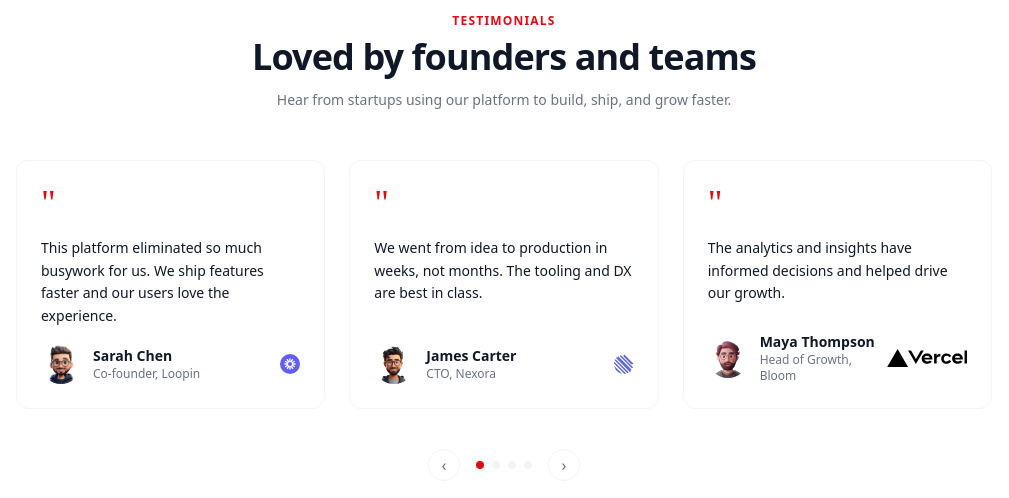
Test: Carousel › previous button changes visible testimonial
Click the button "‹".
click(444, 465)  # box [428,449,460,481]
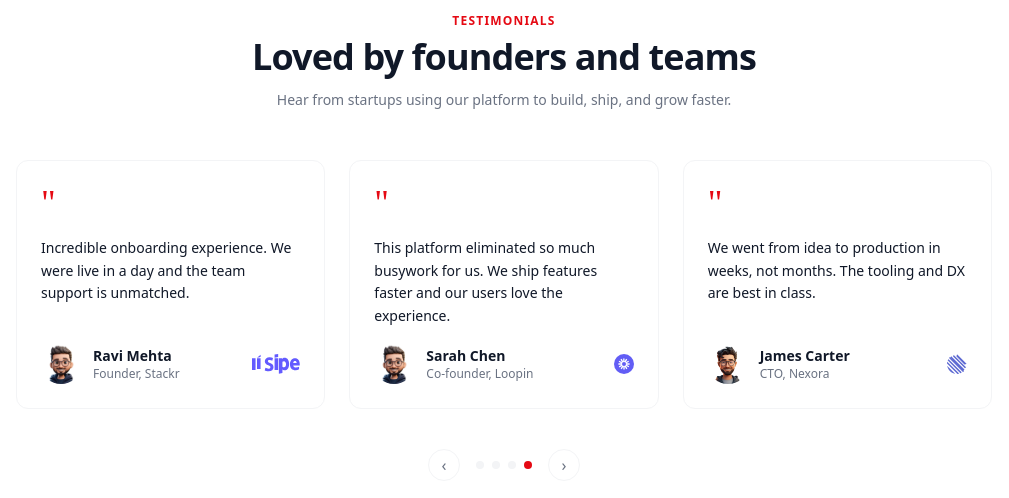
Result: the text "Incredible onboarding experience. We were live in a day and the team support is unmatched." is shown at [41,238,291,302]
